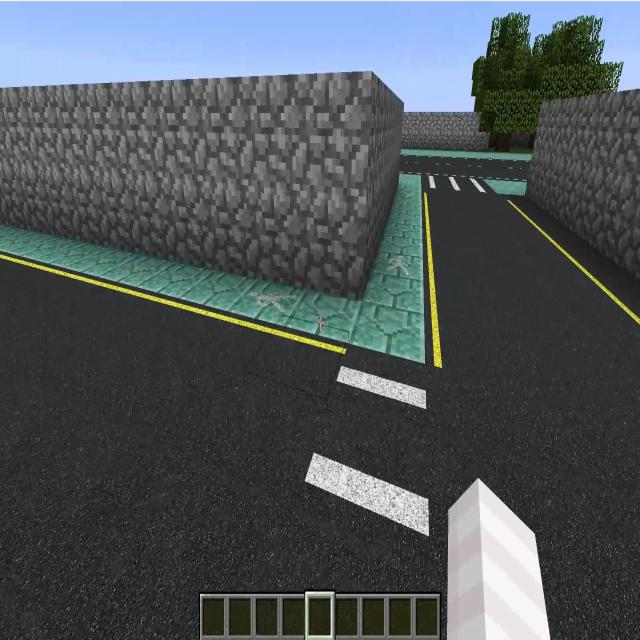crosswalk: (267, 343, 443, 597), (425, 172, 495, 195)
road: (1, 252, 348, 636), (423, 189, 640, 638), (402, 157, 534, 173)
sidewalk: (0, 175, 424, 361), (401, 149, 531, 161), (482, 179, 526, 195)
